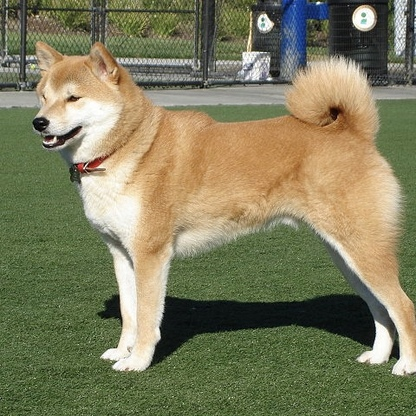shiba: (27, 33, 416, 380)
